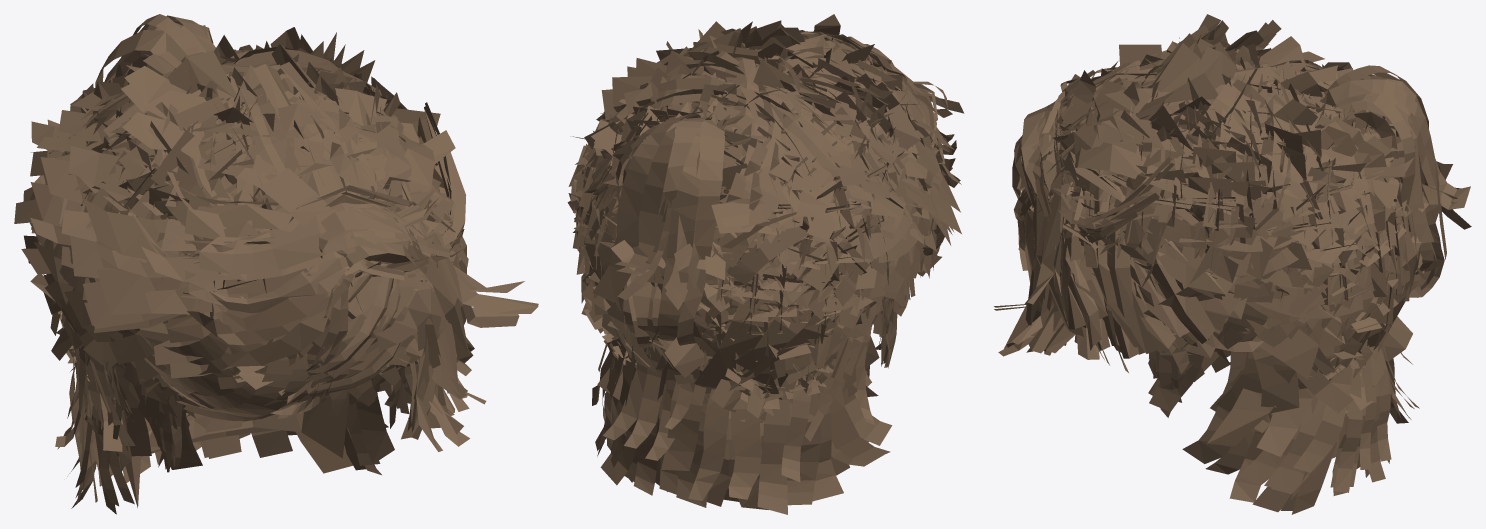
The model's file is hair-styles.glb.
The picture shows the model from 3 angles, left to right: view 1: azimuth 30°, elevation 25°; view 2: azimuth 150°, elevation 25°; view 3: azimuth 270°, elevation 25°; orthographic projection. The views are drawn at different scales.
Visible parts, largest first — view 1: style12, style2, style3, style5, style6, style9, style1, style7, style13, style11, style0; view 2: style3, style2, style12, style9, style1, style13, style5, style7; view 3: style3, style2, style6, style1, style5, style9, style13, style12, style7, style11.
Part boxes in pixels (x1,y1,x2,y2): style12: (14,54,398,428); style2: (31,32,464,507); style3: (55,14,411,514); style5: (39,47,449,421); style6: (251,92,538,451); style9: (30,83,440,458); style1: (43,102,418,469); style7: (87,45,466,412); style13: (30,25,400,430); style11: (105,261,426,439); style0: (134,241,437,457); style3: (581,114,909,514); style2: (568,21,946,402); style12: (567,14,964,338); style9: (573,30,930,436); style1: (576,101,947,399); style13: (575,20,890,420); style5: (591,40,941,328); style7: (590,34,947,328); style3: (1155,65,1471,514); style2: (1020,25,1423,389); style6: (994,75,1241,372); style1: (1060,71,1411,413); style5: (1017,41,1367,356); style9: (1057,50,1420,433); style13: (1055,25,1457,387); style12: (1012,14,1414,349); style7: (1014,66,1395,386); style11: (1014,171,1366,378).
Size of the model in its own units: 0.2171 by 0.2639 by 0.2696.
